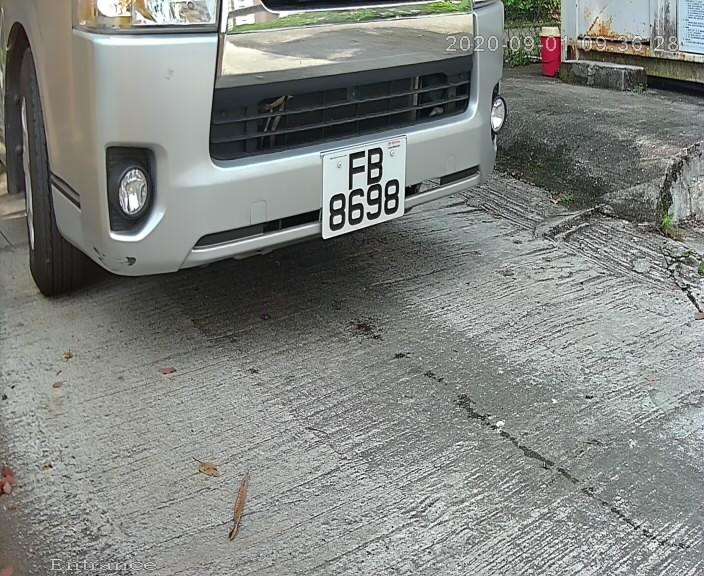Car: (26, 6, 541, 337)
License Plate: (309, 137, 415, 240)
